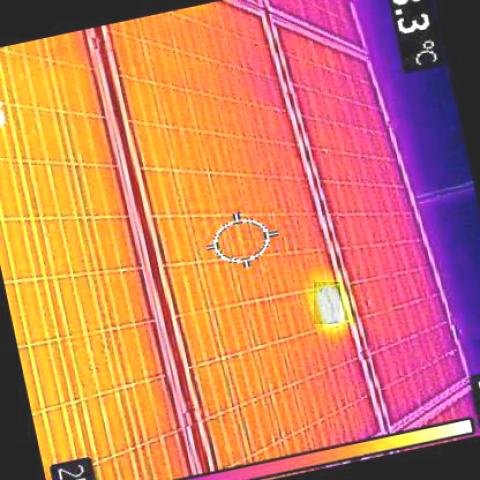fault: (314, 282, 340, 324)
